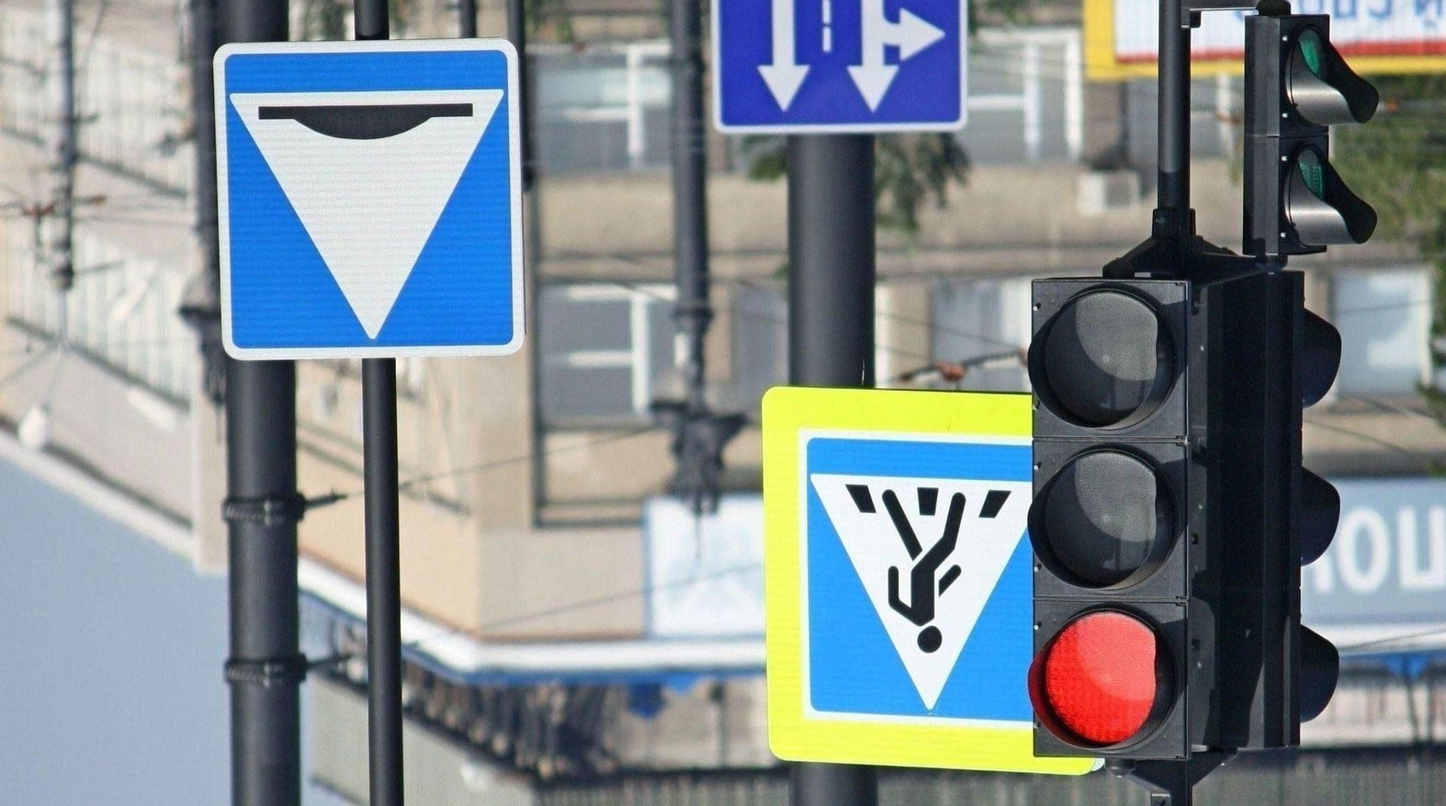obstructed_road_sign: (710, 0, 968, 132)
off traffic light: (1215, 268, 1343, 748)
road_sign: (760, 384, 1099, 776), (211, 32, 524, 360)
traffic light: (1025, 280, 1194, 760), (1241, 13, 1382, 255)
